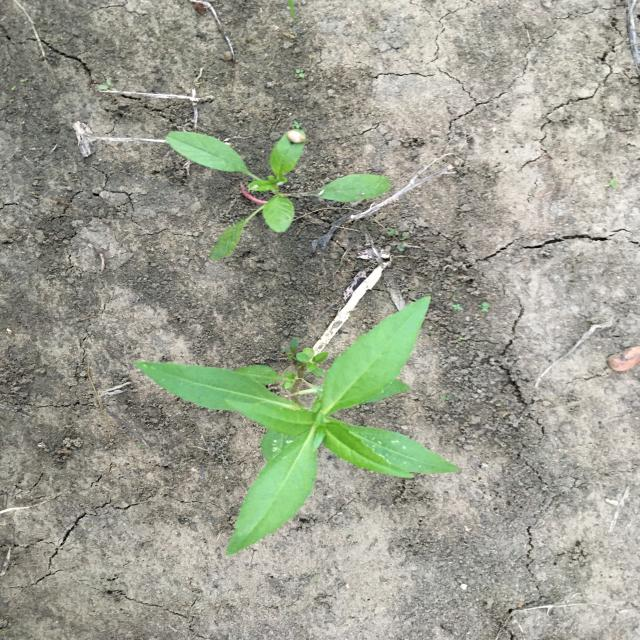Eclipta: (132, 295, 463, 558)
Waterhemp: (163, 128, 393, 264)
